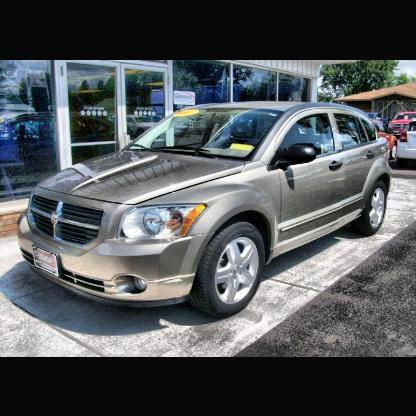Dodge Caliber Wagon 2012: (20, 103, 393, 318)
